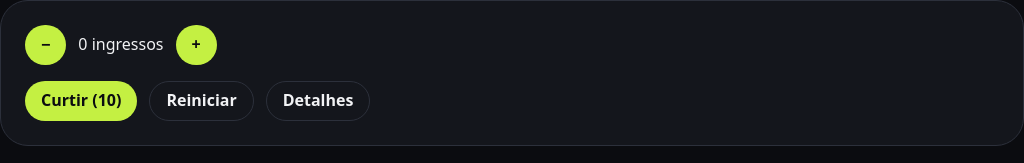
Scenario: cada componente tem o seu estado
Click the button named "Mais ingressos": [196, 45] box 176,25 -> 217,65
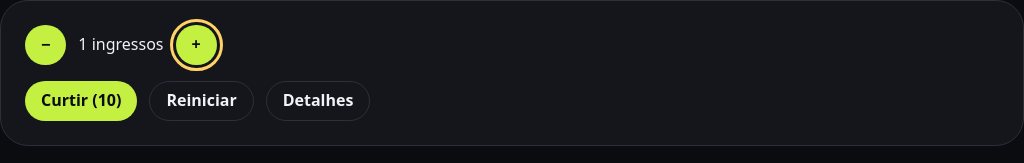
Click the button "Curtir (10)": [81, 101] box 25,81 -> 137,121
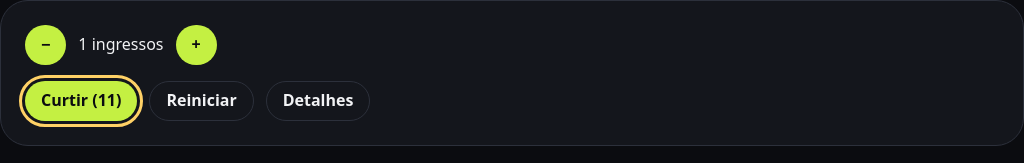
Expected: the text named "Ingressos: 1" is shown, 78,32 -> 164,58
Expected: the button "Curtir (11)" is shown, 25,81 -> 137,121
